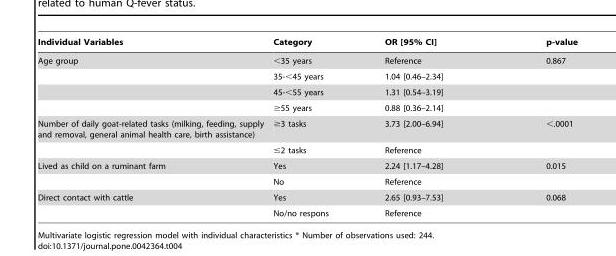table: (37, 37, 576, 217)
table column: (37, 37, 267, 217), (355, 37, 493, 217), (267, 37, 355, 217), (493, 37, 576, 217)
table column header: (37, 37, 576, 51)
table row: (37, 115, 576, 142), (37, 51, 576, 68), (37, 68, 576, 84), (37, 99, 576, 115), (37, 157, 576, 173), (37, 173, 576, 189), (37, 189, 576, 205), (37, 84, 576, 99), (37, 142, 576, 157), (37, 37, 576, 51), (37, 205, 576, 217)
table spanning cell: (37, 51, 267, 115), (37, 115, 267, 157), (37, 157, 267, 189), (37, 189, 267, 217)
